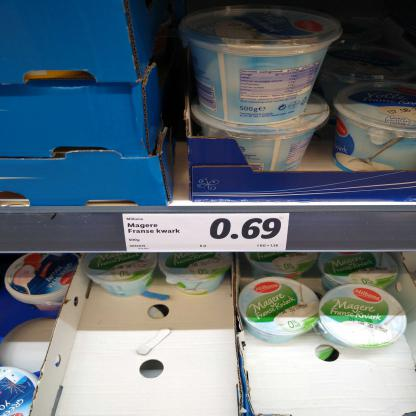prtg: (123, 214, 290, 253)
